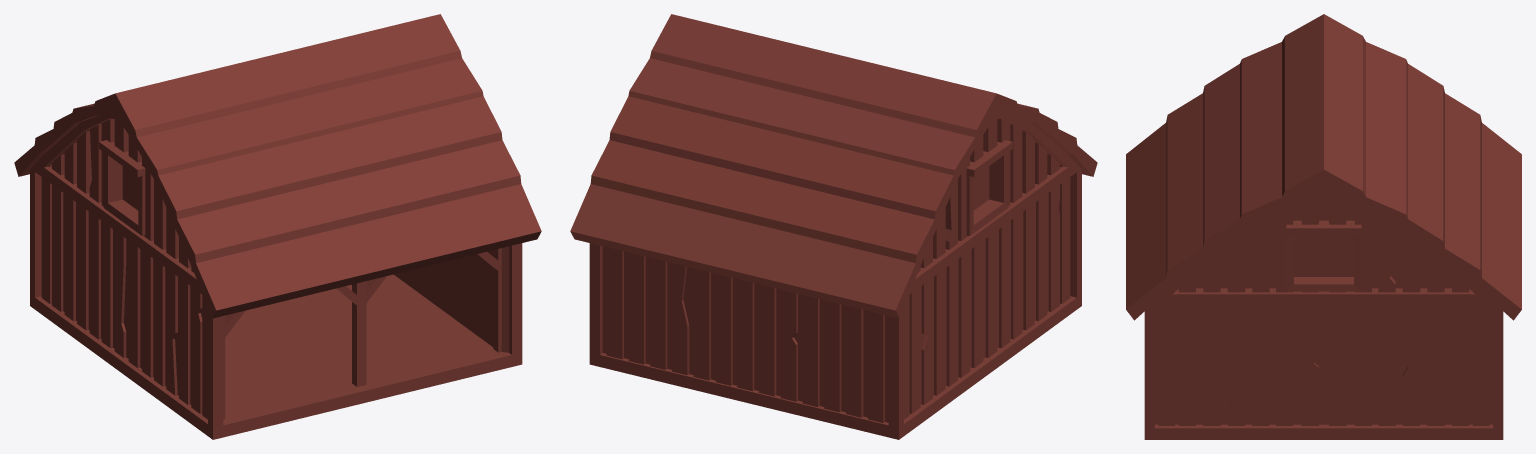
Rendered from OpenBarn.glb.
The picture shows the model from 3 angles, left to right: view 1: azimuth 30°, elevation 25°; view 2: azimuth 150°, elevation 25°; view 3: azimuth 270°, elevation 25°; orthographic projection. The views are drawn at different scales.
Visible parts, largest first — view 1: OpenBarn_Cube.045; view 2: OpenBarn_Cube.045; view 3: OpenBarn_Cube.045.
Boxes of the visible parts, x1=… form: OpenBarn_Cube.045: x1=14, y1=14, x2=541, y2=439; OpenBarn_Cube.045: x1=570, y1=14, x2=1097, y2=439; OpenBarn_Cube.045: x1=1126, y1=14, x2=1521, y2=439.
Bounding box in the file's own units: 5.74 × 4.74 × 6.18.
